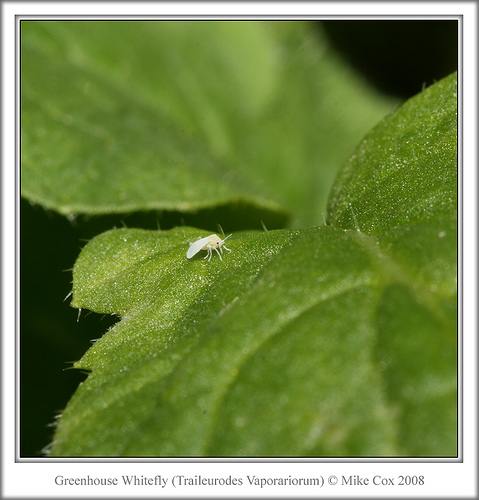whitefly: (185, 234, 231, 261)
